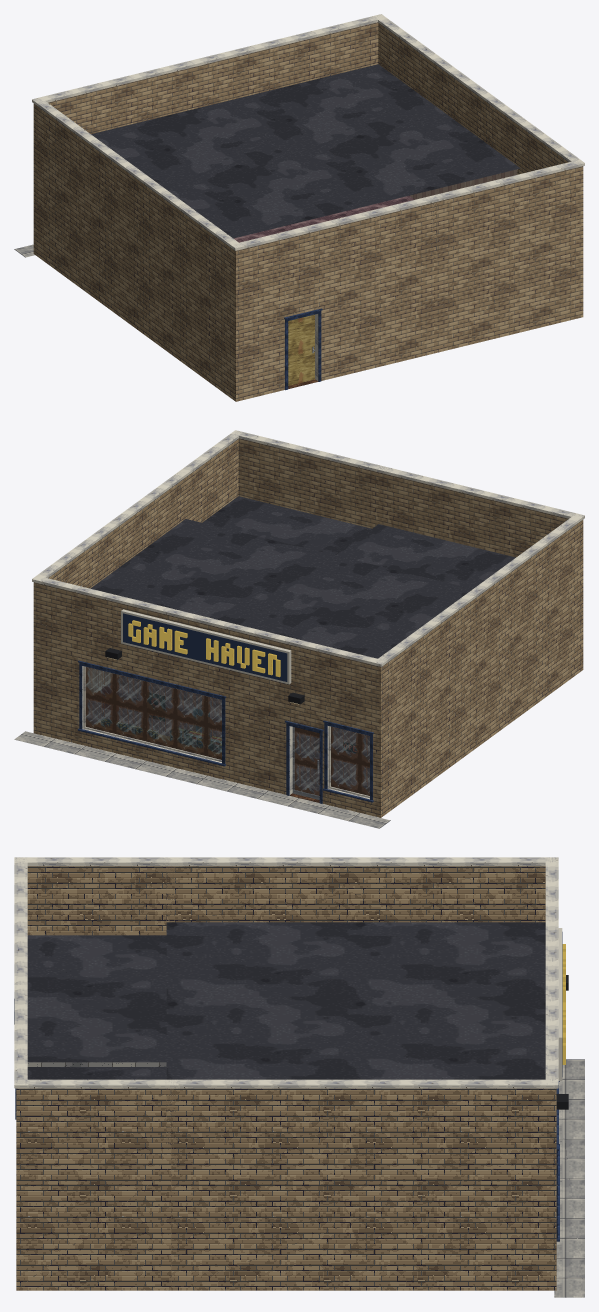
Rendered from COM_GameShop.glb.
The picture shows the model from 3 angles, top to bottom: view 1: azimuth 30°, elevation 25°; view 2: azimuth 150°, elevation 25°; view 3: azimuth 270°, elevation 25°; orthographic projection. The views are drawn at different scales.
Visible parts, largest first — view 1: COM_GameShop_Exterior, INT_Door_BackExit, COM_GameShop_Interior; view 2: COM_GameShop_Exterior, COM_GameShop_Interior, INT_Door_Entrance; view 3: COM_GameShop_Exterior, COM_GameShop_Interior.
Boxes of the visible parts, box(x1,y1,x2,y2) form: COM_GameShop_Exterior: box(14, 14, 584, 401); INT_Door_BackExit: box(288, 314, 314, 385); COM_GameShop_Interior: box(233, 169, 517, 242); COM_GameShop_Exterior: box(14, 430, 584, 828); COM_GameShop_Interior: box(87, 668, 369, 793); INT_Door_Entrance: box(292, 727, 319, 799); COM_GameShop_Exterior: box(14, 857, 584, 1297); COM_GameShop_Interior: box(27, 1062, 166, 1066).
Size of what is drawn, in the model's own units: 12 by 4.87 by 12.15.
Materials: 18 (18 with a texture image).
